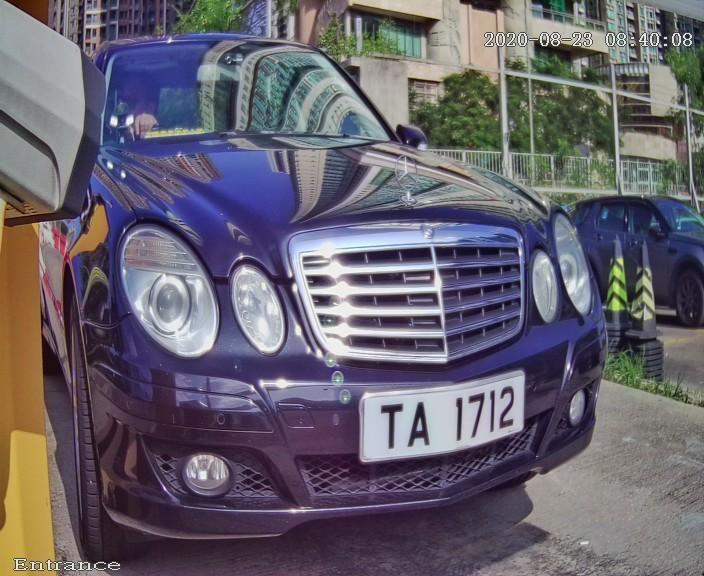Car: (13, 11, 645, 576)
License Plate: (337, 346, 553, 482)
